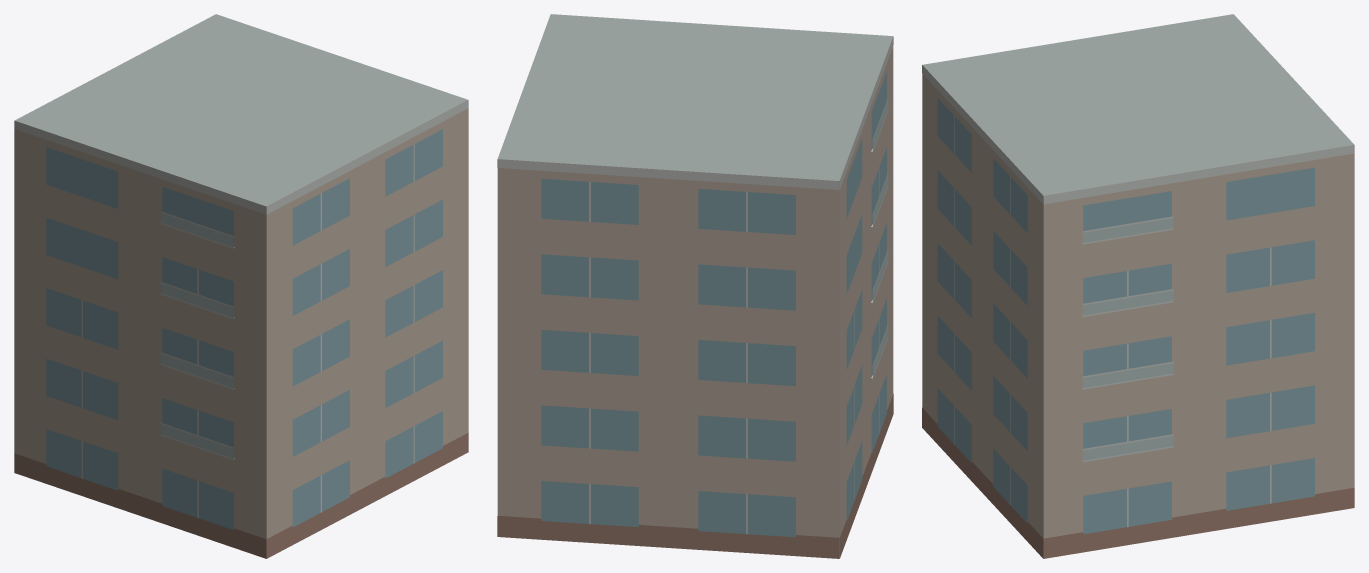
The model's file is survey-upis-32835980.glb.
3 views of the same model, side by side, from view 1: azimuth 30°, elevation 25°; view 2: azimuth 150°, elevation 25°; view 3: azimuth 270°, elevation 25° (orthographic). The views are drawn at different scales.
Parts seen in each view (by area): view 1: survey-upis-32835980.tmp; view 2: survey-upis-32835980.tmp; view 3: survey-upis-32835980.tmp.
Boxes of the visible parts, x1=… form: survey-upis-32835980.tmp: x1=14, y1=14, x2=468, y2=558; survey-upis-32835980.tmp: x1=497, y1=14, x2=893, y2=558; survey-upis-32835980.tmp: x1=922, y1=14, x2=1354, y2=558.
Size of the model in its own units: 11.19 by 10.4 by 11.24.
